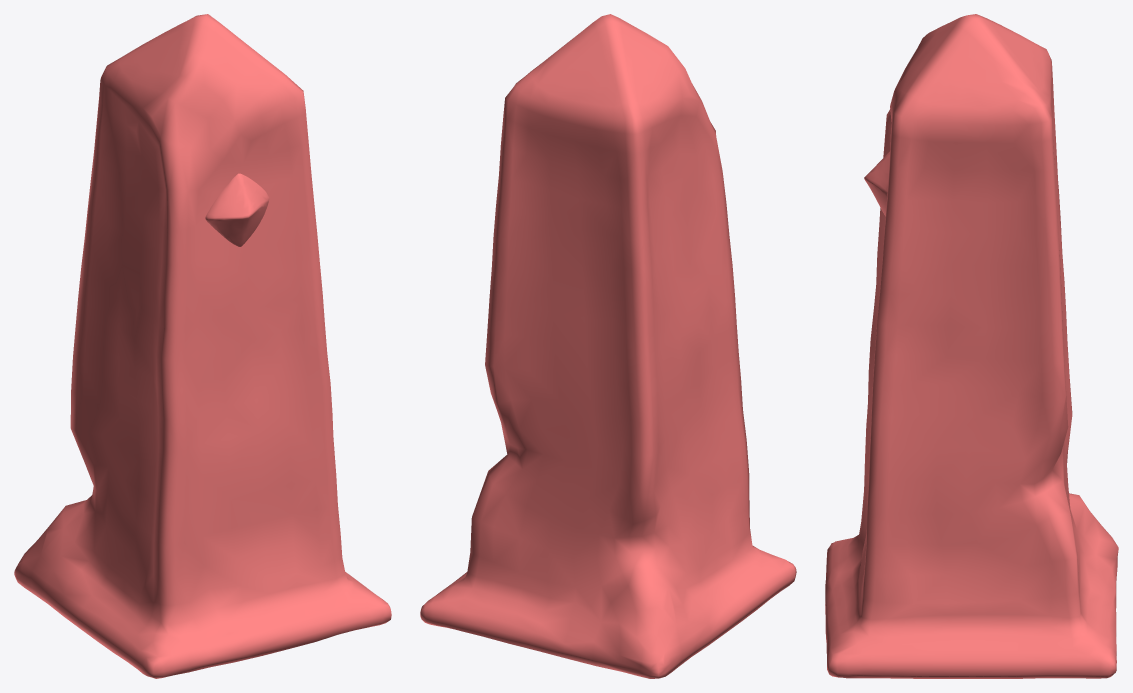
Rendered from stele-2.fbx.
The picture shows the model from 3 angles, left to right: view 1: azimuth 30°, elevation 25°; view 2: azimuth 150°, elevation 25°; view 3: azimuth 270°, elevation 25°; orthographic projection. The views are drawn at different scales.
Visible parts, largest first — view 1: pCube8, PM3D_Cube3D1; view 2: pCube8; view 3: pCube8, PM3D_Cube3D1.
Part boxes in pixels (x1,y1,x2,y2): pCube8: (14, 14, 391, 678); PM3D_Cube3D1: (205, 173, 269, 246); pCube8: (420, 14, 796, 678); pCube8: (825, 14, 1118, 678); PM3D_Cube3D1: (864, 151, 889, 216).
Size of the model in its own units: 2.66 by 6.08 by 2.68.
